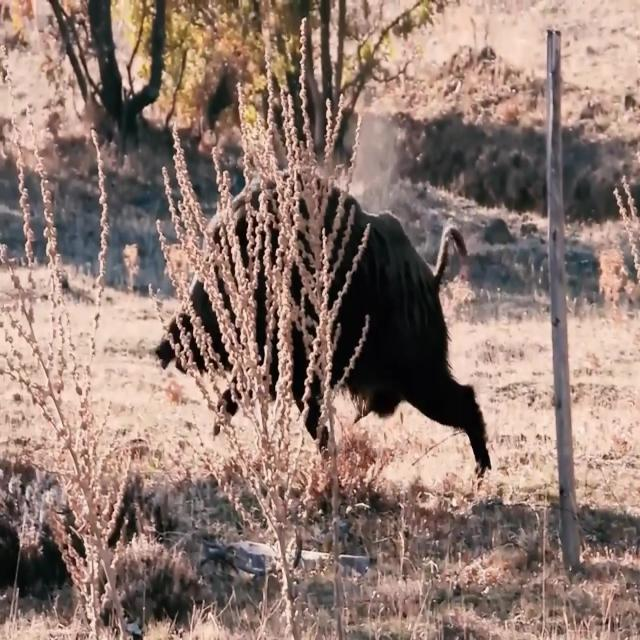pig: (156, 171, 491, 469)
